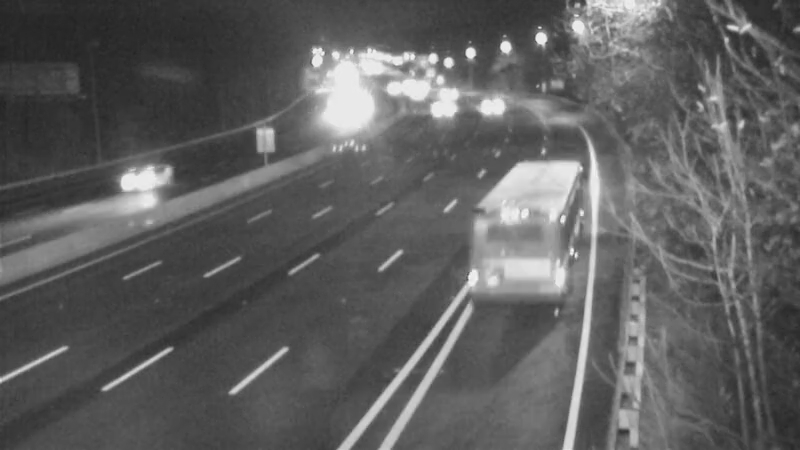vehicle: (470, 211, 550, 291), (98, 130, 178, 210), (367, 64, 417, 114), (391, 70, 441, 120), (421, 71, 471, 121), (464, 84, 514, 134), (415, 81, 465, 131)
